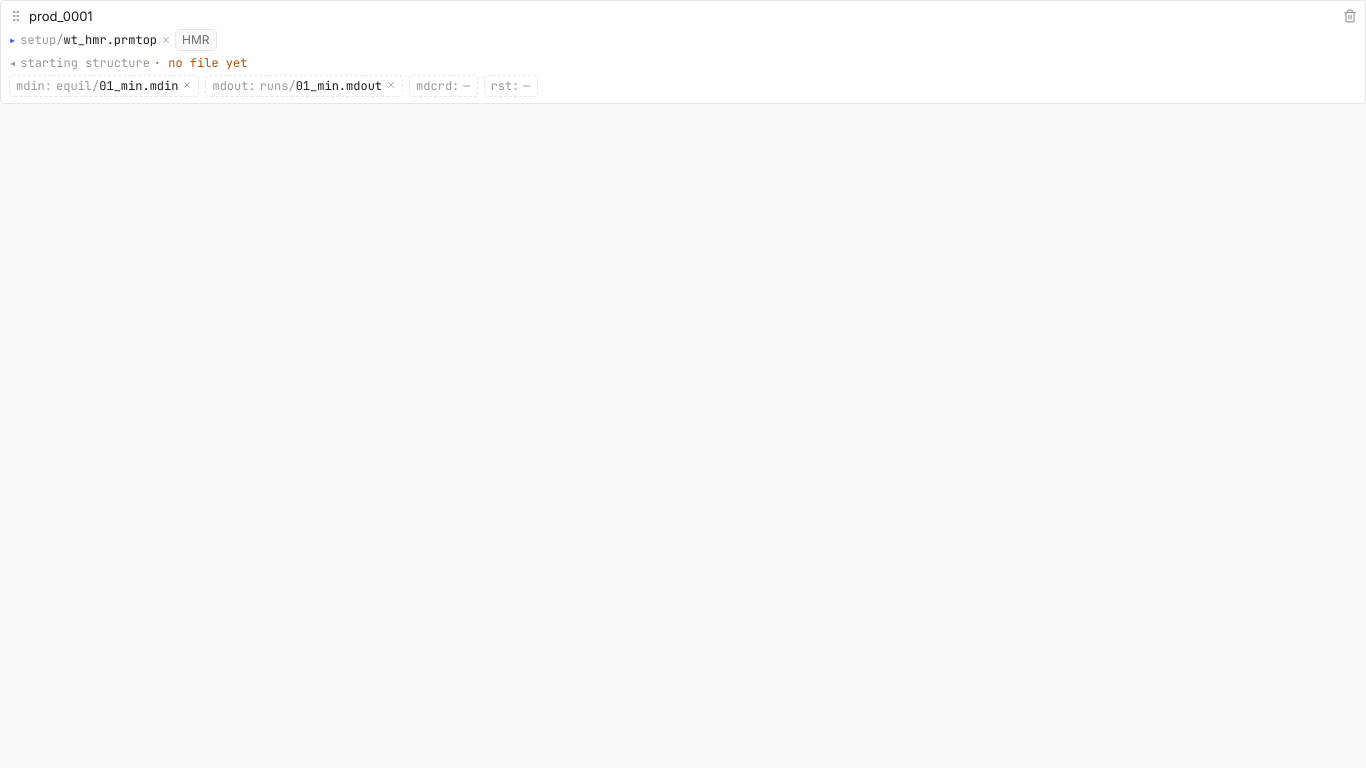
Test: deletes the step on one click and offers to undo it, without a confirm dialog
What coordinates should you click on to do the following:
click the button named "delete step prod_0001"
I would click on:
 (1350, 16)
Its box is [1343,9,1357,23].
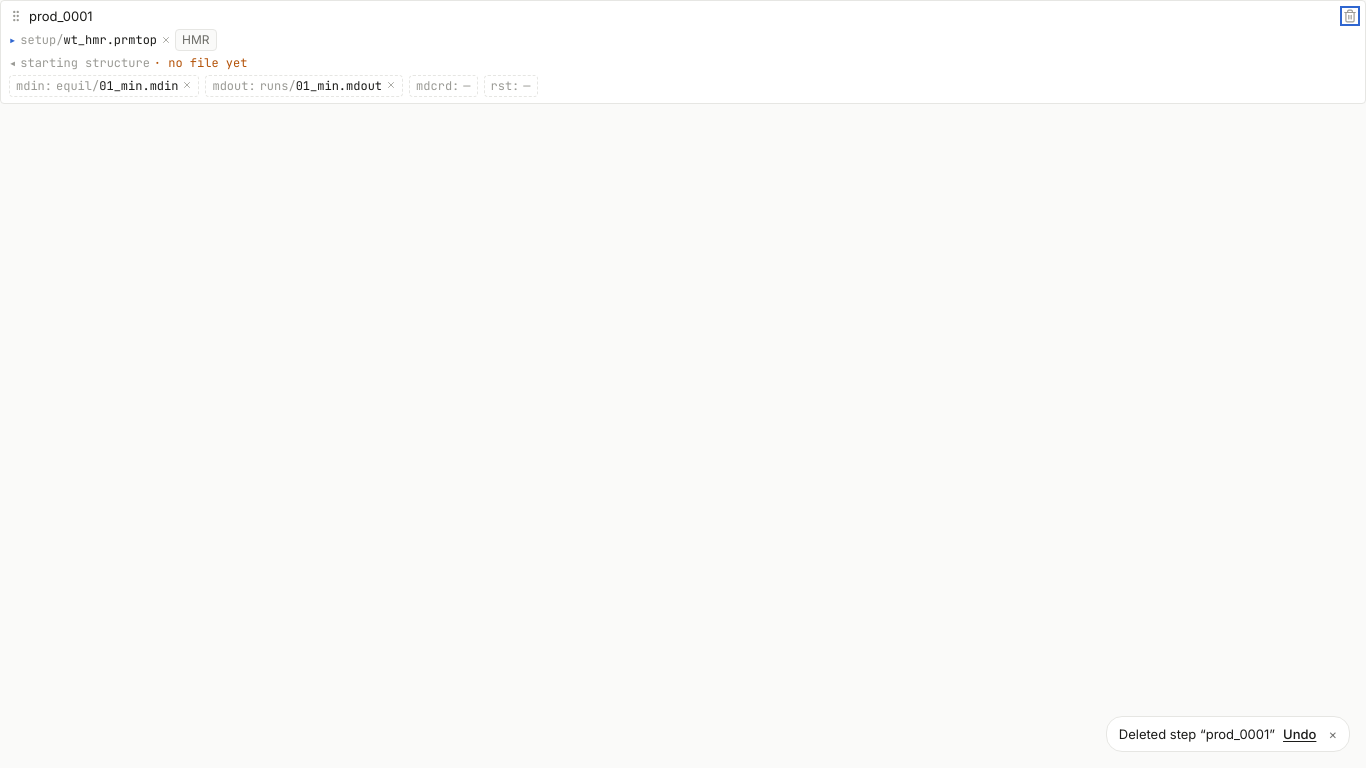
Now the button "Undo" is shown, box [1283,725,1316,743]
